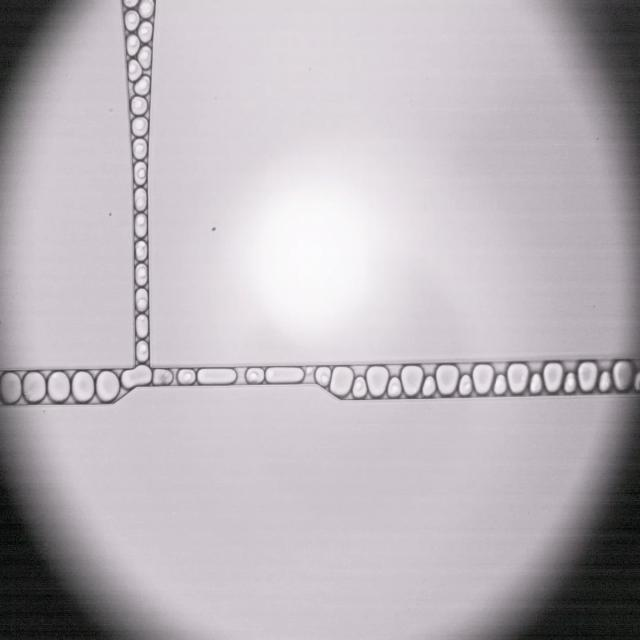L: (315, 367, 331, 387), (352, 377, 367, 398), (132, 117, 148, 136), (153, 368, 172, 384), (132, 139, 147, 159), (134, 76, 150, 94), (131, 96, 147, 114), (128, 59, 141, 81), (125, 11, 139, 31), (138, 22, 152, 42), (422, 376, 436, 396), (138, 46, 150, 69), (135, 214, 147, 237), (135, 188, 147, 211), (136, 288, 148, 311), (136, 314, 148, 337), (127, 34, 140, 55), (136, 341, 149, 362), (388, 377, 401, 398), (599, 371, 612, 392), (246, 368, 264, 383), (134, 162, 146, 184), (459, 375, 472, 395), (529, 373, 542, 393), (178, 369, 195, 384), (140, 0, 154, 18), (135, 264, 147, 285), (493, 375, 506, 394), (564, 372, 576, 392), (136, 241, 147, 260), (634, 372, 640, 391), (123, 0, 138, 7)
S: (96, 371, 120, 402), (121, 365, 152, 388), (436, 364, 459, 395), (72, 371, 94, 402), (0, 372, 21, 404), (330, 367, 353, 396), (23, 372, 45, 402), (367, 366, 389, 396), (401, 366, 423, 396), (48, 372, 70, 401), (472, 364, 493, 394), (265, 367, 304, 383), (198, 368, 236, 384), (508, 363, 528, 393), (577, 362, 597, 392), (543, 363, 563, 392), (613, 361, 631, 391)
